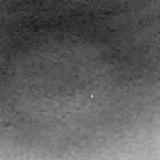Target: (88, 92, 94, 99)
